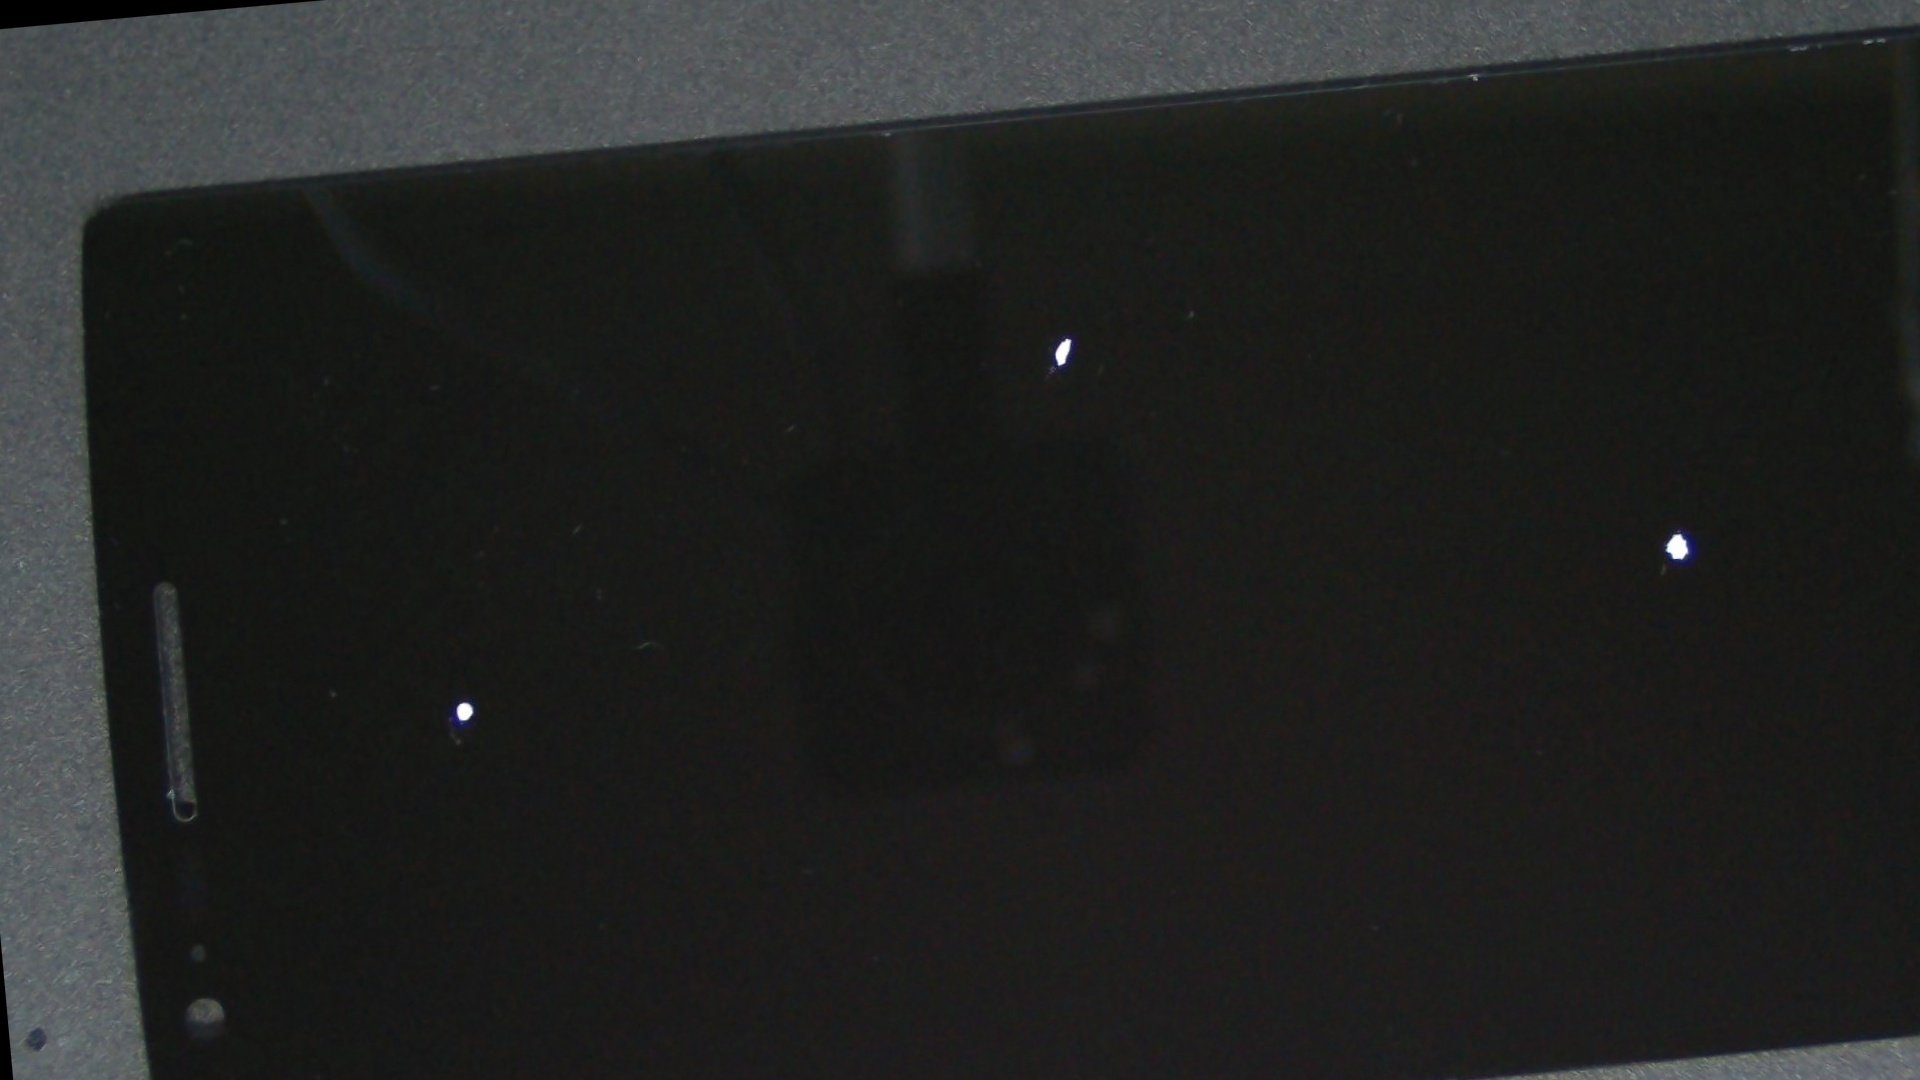oil: (798, 166, 1920, 934), (493, 86, 1629, 589), (191, 324, 728, 1077)
